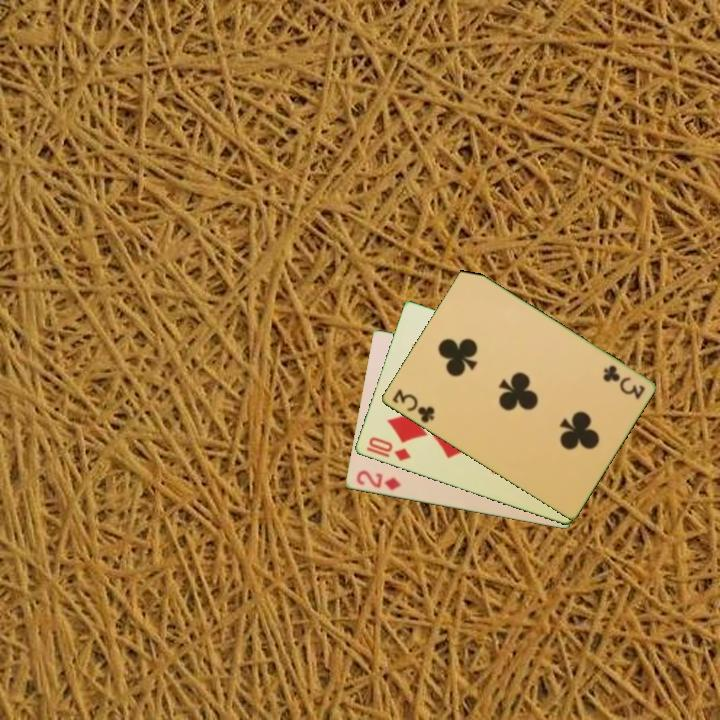10d: (363, 433, 413, 464)
2d: (352, 467, 403, 493)
3c: (388, 385, 438, 426), (599, 361, 648, 402)
